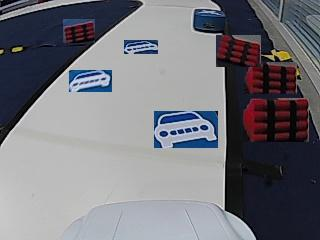prop: (193, 9, 225, 33)
